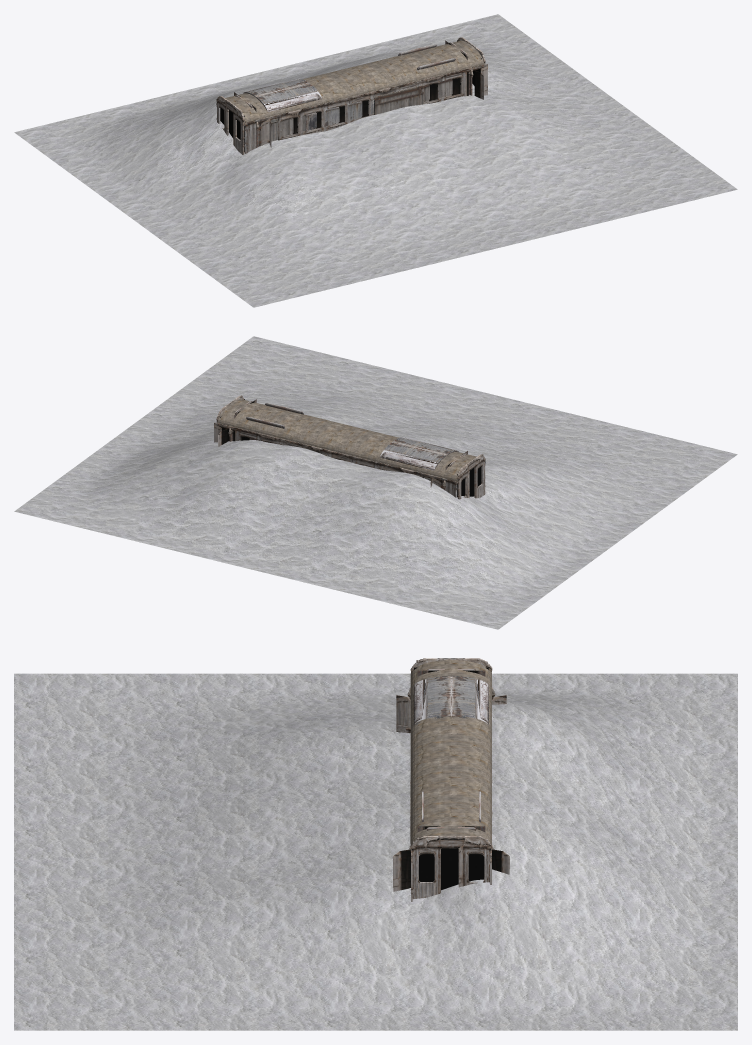
File: rail-trains.glb
3 renders of one model, top to bottom at view 1: azimuth 30°, elevation 25°; view 2: azimuth 150°, elevation 25°; view 3: azimuth 270°, elevation 25°, orthographic. The views are drawn at different scales.
Parts seen in each view (by area): view 1: the-2-15-drift, the-2-15-carriage, the-2-15-van, the-2-15-engine; view 2: the-2-15-drift, the-2-15-carriage, the-2-15-engine, the-2-15-van; view 3: the-2-15-drift, the-2-15-carriage, the-2-15-engine, the-2-15-van.
Boxes of the visible parts, x1=… form: the-2-15-drift: x1=14, y1=14, x2=737, y2=307; the-2-15-carriage: x1=216, y1=37, x2=487, y2=154; the-2-15-van: x1=234, y1=40, x2=473, y2=147; the-2-15-engine: x1=243, y1=78, x2=374, y2=130; the-2-15-drift: x1=14, y1=336, x2=737, y2=629; the-2-15-carriage: x1=214, y1=395, x2=485, y2=499; the-2-15-engine: x1=341, y1=437, x2=458, y2=470; the-2-15-van: x1=228, y1=399, x2=467, y2=490; the-2-15-drift: x1=14, y1=673, x2=737, y2=1030; the-2-15-carriage: x1=393, y1=658, x2=509, y2=901; the-2-15-engine: x1=413, y1=676, x2=488, y2=725; the-2-15-van: x1=407, y1=668, x2=495, y2=849.
Bounding box in the file's own units: 28 × 4.01 × 24.
9 materials, 9 textured.
